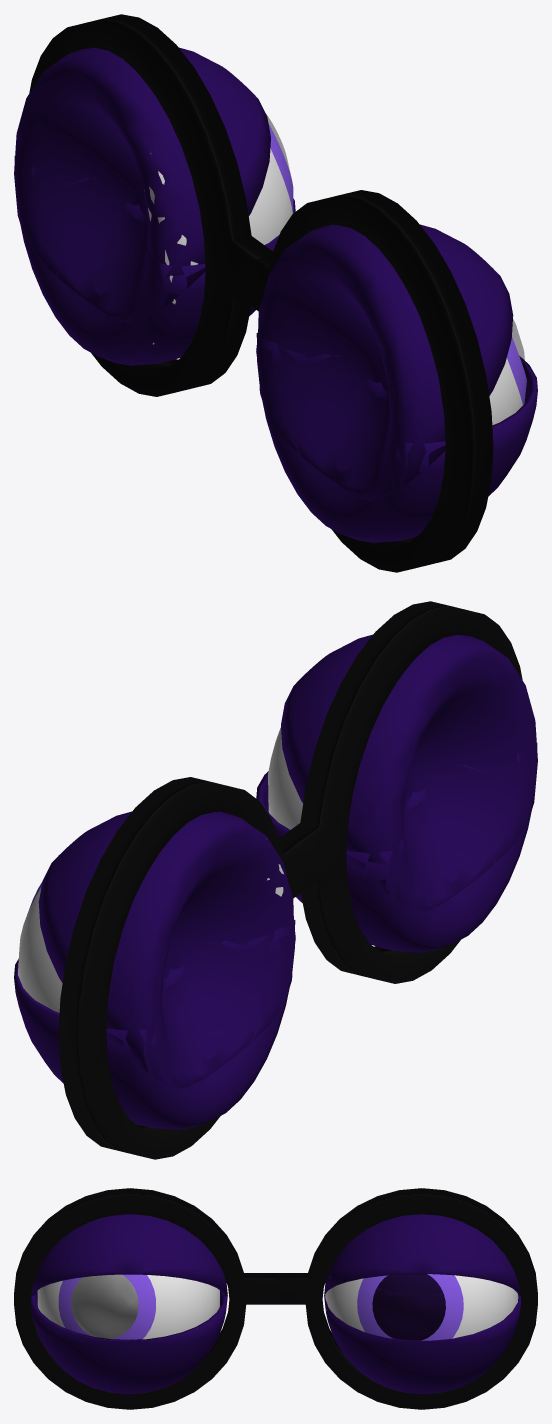
Rendered from monad-glass.gltf.
The picture shows the model from 3 angles, top to bottom: view 1: azimuth 30°, elevation 25°; view 2: azimuth 150°, elevation 25°; view 3: azimuth 270°, elevation 25°; orthographic projection. The views are drawn at different scales.
Visible parts, largest first — view 1: 円柱.004; view 2: 円柱.004; view 3: 円柱.004.
Part boxes in pixels (x1,y1,x2,y2): 円柱.004: (14, 14, 537, 572); 円柱.004: (14, 601, 537, 1159); 円柱.004: (14, 1188, 537, 1409).
Bounding box in the file's own units: 0.0424 × 0.0721 × 0.1626.
